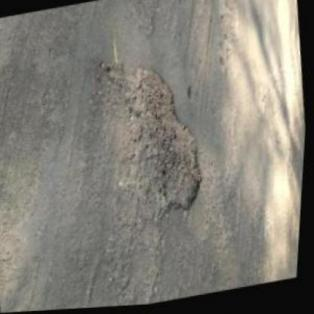Hueco: (117, 58, 216, 228)
